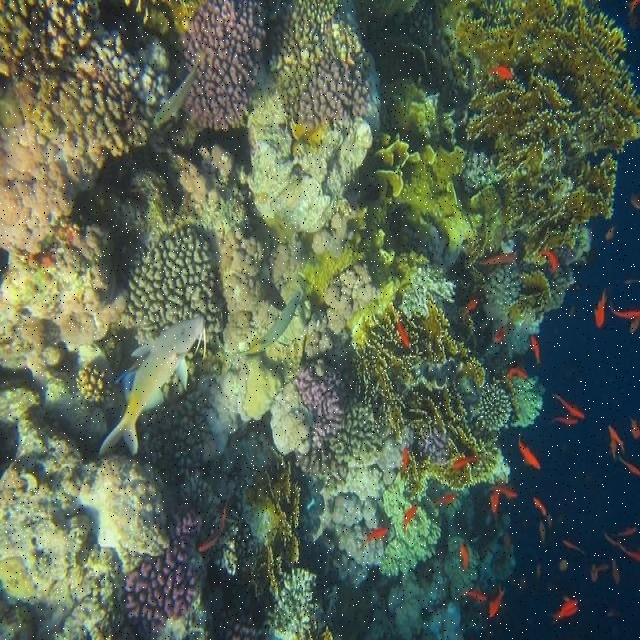aquatic plants: (451, 0, 639, 265)
fish: (95, 317, 207, 461), (239, 290, 302, 354), (155, 51, 206, 126)
reefs: (271, 3, 371, 133), (121, 224, 227, 343), (183, 0, 265, 129), (128, 514, 203, 627)
